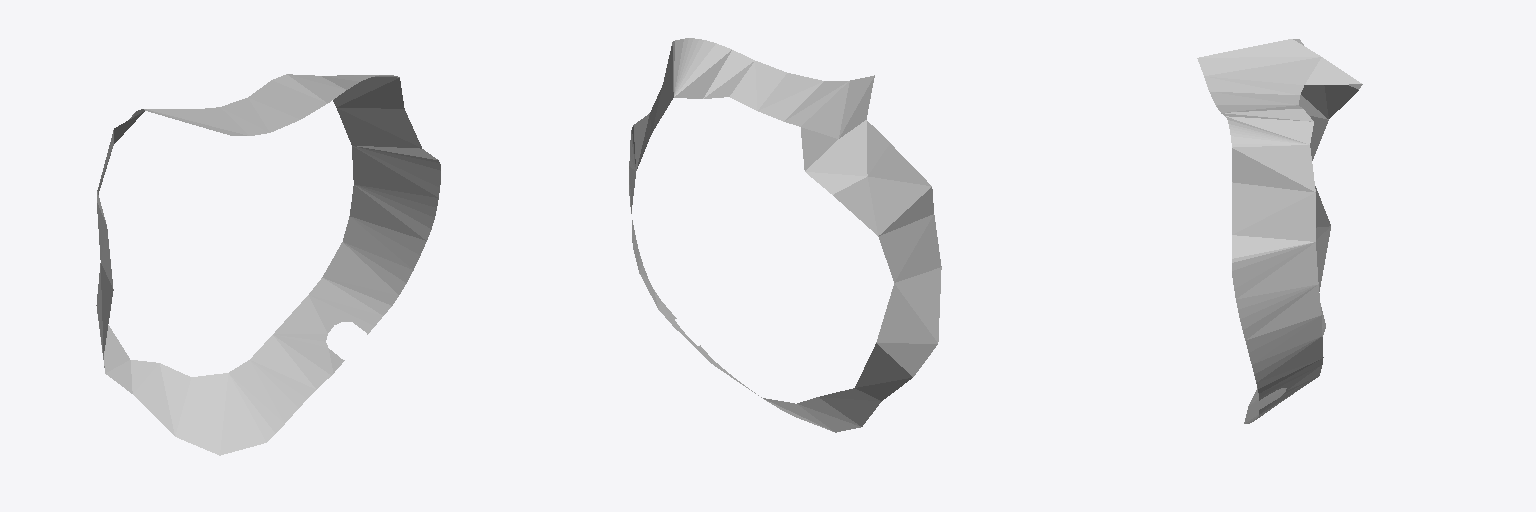
The model's file is polygon821.obj.
3 renders of one model, left to right at view 1: azimuth 30°, elevation 25°; view 2: azimuth 150°, elevation 25°; view 3: azimuth 270°, elevation 25°, orthographic.
Parts seen in each view (by area): view 1: polygon821; view 2: polygon821; view 3: polygon821.
Part boxes in pixels (x1,y1,x2,y2): polygon821: (96,74,440,455); polygon821: (629,38,941,432); polygon821: (1197,39,1362,423).
Size of the model in its own units: 2449 by 2545 by 1089.